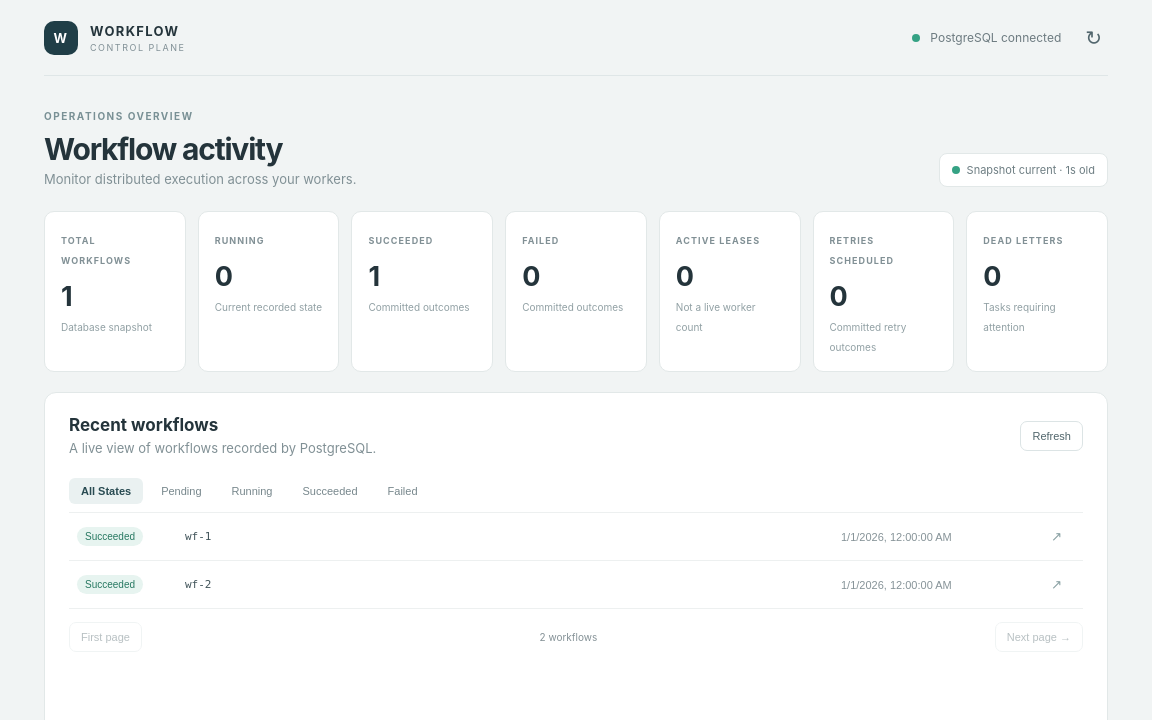
Scenario: dashboard › cancels workflow detail responses when selection changes quickly
Click the text "wf-1".
click(198, 536)  # box [185, 530, 212, 543]
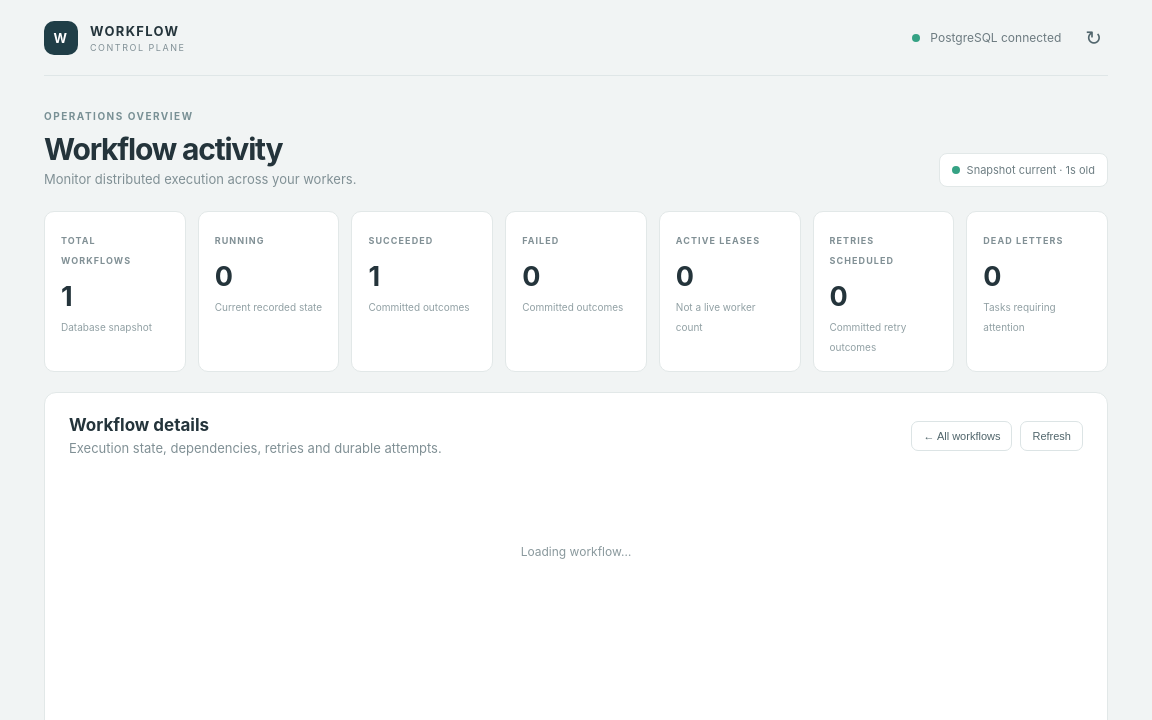
Click the button "← All workflows".
click(962, 436)  # box [911, 420, 1012, 450]
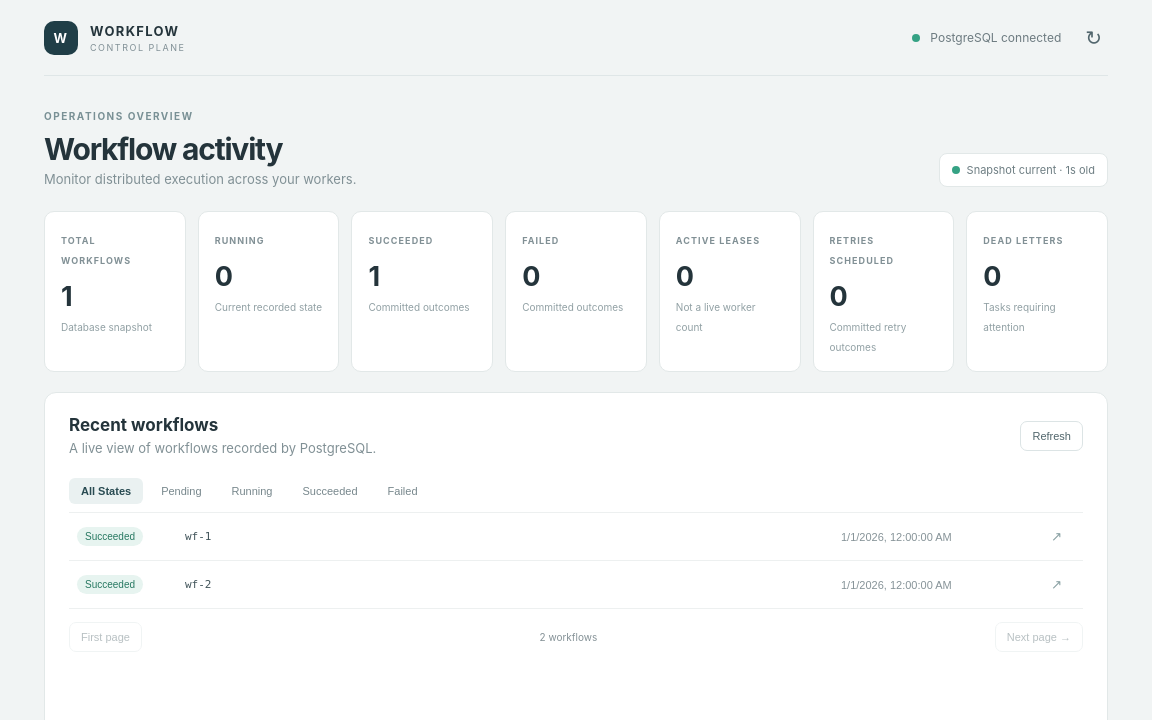
Click the text "wf-2".
click(198, 584)  # box [185, 578, 212, 591]
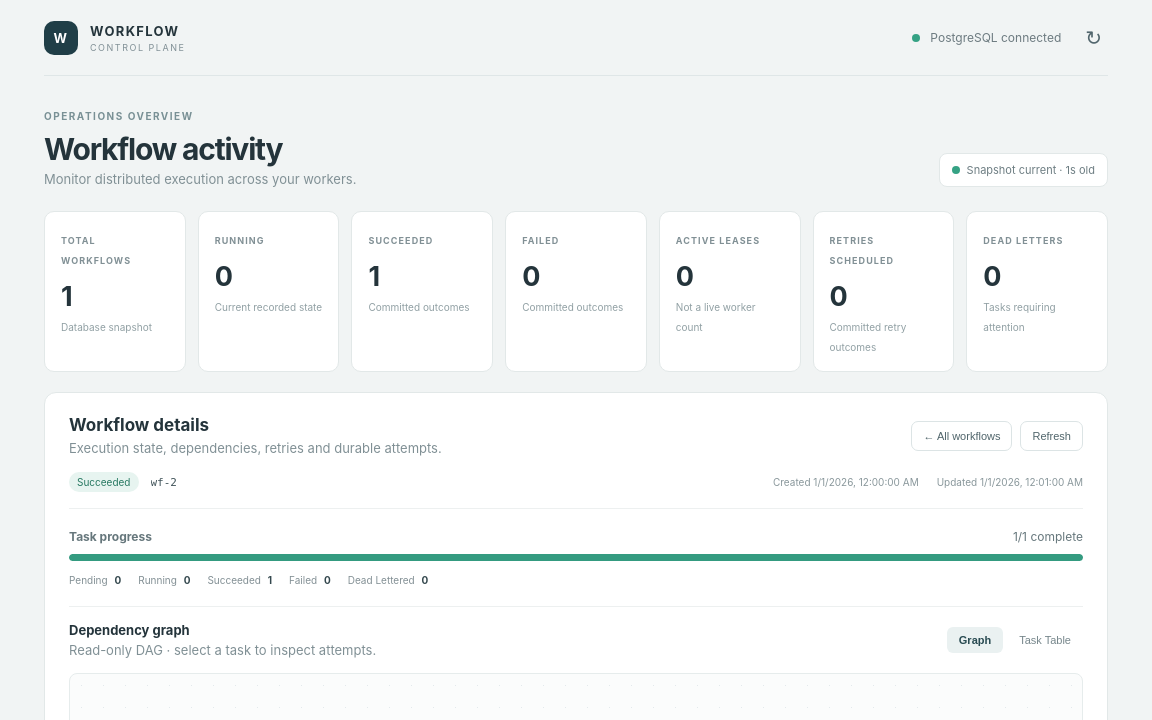
Check: the text "wf-2" is shown, box [150, 476, 177, 488]
Check: the heading "Dependency graph" is shown, box [69, 622, 190, 638]
